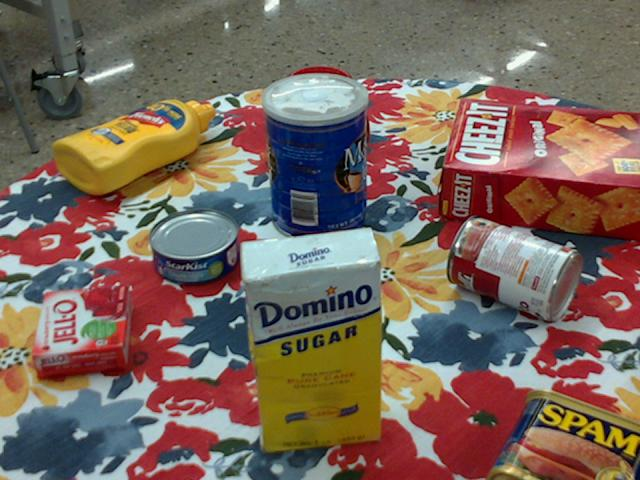cracker_box: (439, 98, 639, 241)
gelatin_box: (34, 288, 133, 382)
master_chef_can: (262, 73, 368, 243)
mug: (282, 66, 368, 159)
mustard_bottle: (51, 100, 213, 194)
potted_meat_can: (489, 386, 639, 479)
sugar_box: (237, 226, 381, 455)
tomato_soup_can: (448, 215, 584, 320)
tuna_fish_can: (147, 210, 238, 286)
